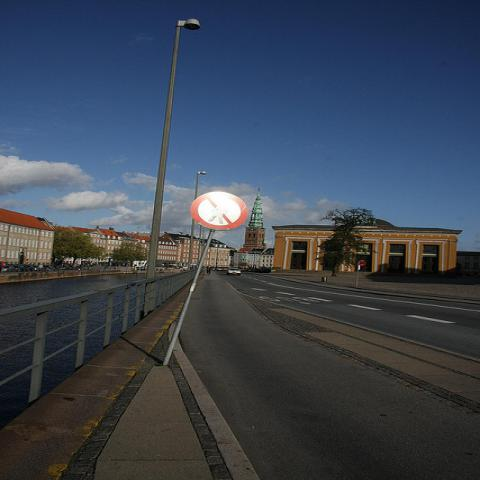car: (226, 267, 243, 275), (0, 266, 16, 272)
